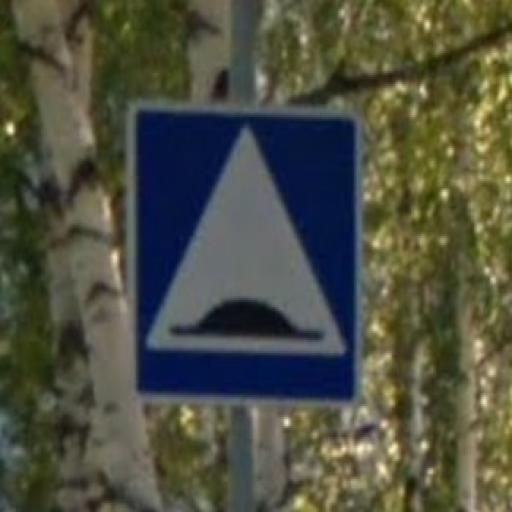traffic_sign: (123, 96, 366, 411)
